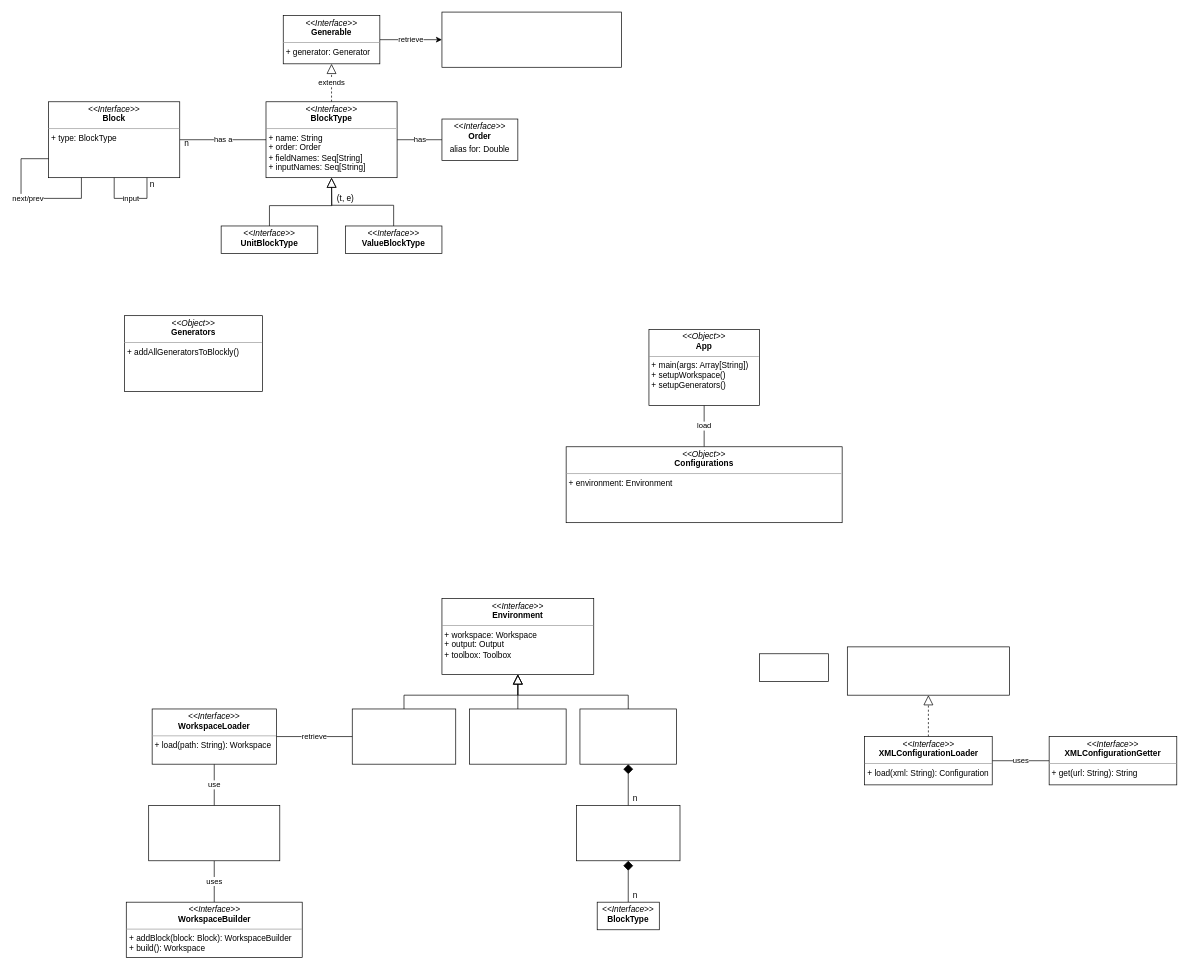
Image size: 1189x969. Some labels were removed from this diagram. Here are the shapes that lost their labels. From the top down, the centre of each, then its label:
(531,39): <<Interface>> Generator alias for: js.Function1[Block, js.Tuple[String, Order]]
(793,667): <<Interface>> Configuration
(928,670): <<Interface>> ConfigurationLoader + abstract load(data: String): Configuration
(404,736): <<Interface>> Workspace + getBlocks(): Seq[Blocks]
(517,736): <<Interface>> Output + getCode: String + setCode: String
(628,736): <<Interface>> Toolbox
(214,833): <<Interface>> WorkspaceParser + parse(plain: String): Workspace
(628,833): <<Interface>> Category + name: String + blocks: Seq[BlockType]
